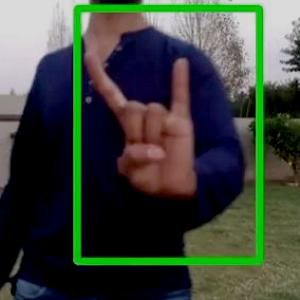takeoff-hand: (80, 27, 206, 222)
